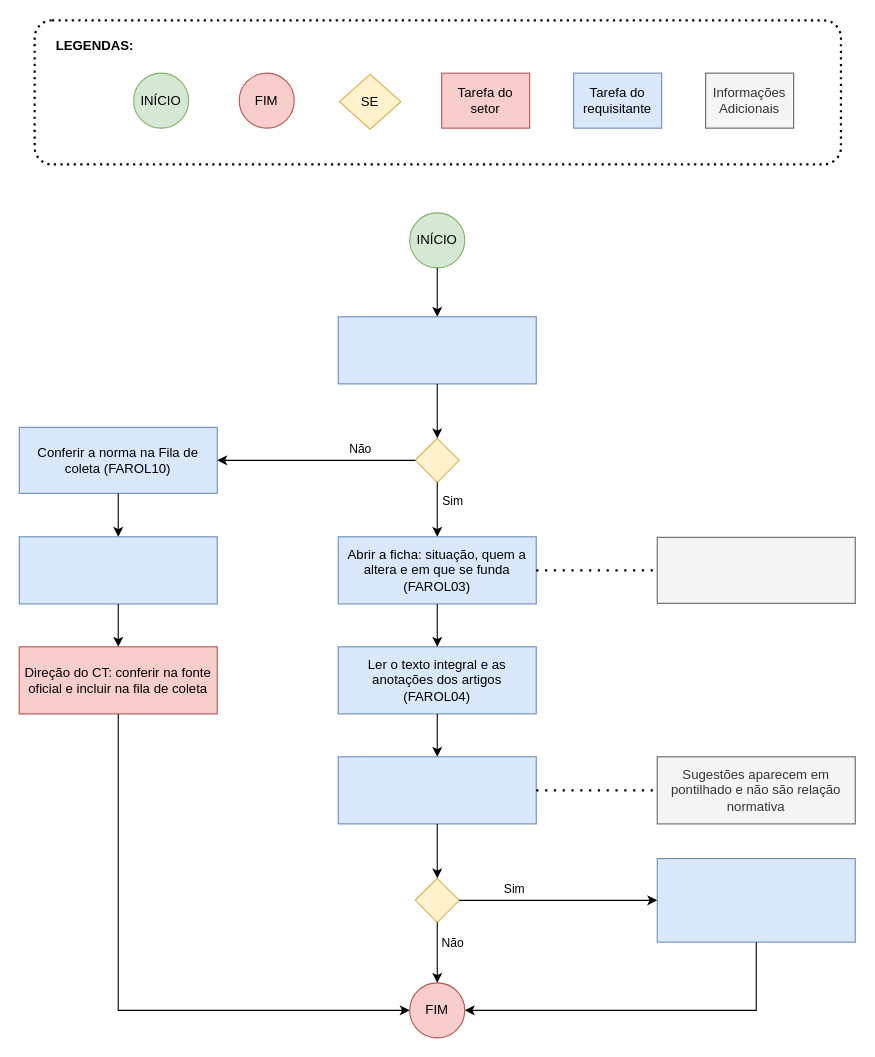
This 875x1057 diagram has some shape labels left out. Here are the shapes that lost their labels. From the top down, the centre of each, then its label:
At (436,350): "Buscar a norma pelo número, pelo assunto ou pelo órgão (FAROL02)".
At (436,459): "Está no acervo?".
At (117,570): "Pedir a inclusão no Atendimento CT – Direção de Centro".
At (755,569): "Toda ficha traz o link para o texto oficial".
At (436,790): "Seguir a cadeia de normas na Teia (FAROL05 e FAROL06)".
At (436,899): "Há conflito ou dúvida?".
At (755,899): "Conferir o Quadro de vigência e as Divergências (FAROL08 e FAROL09)".
